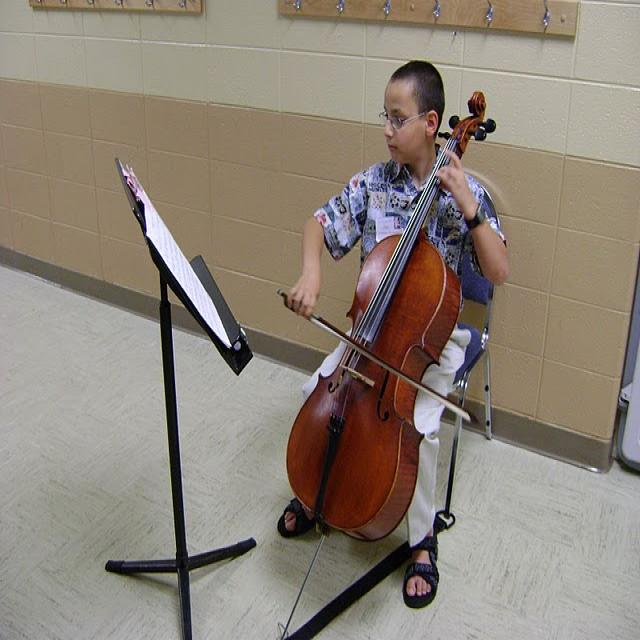cello: (284, 91, 486, 544)
